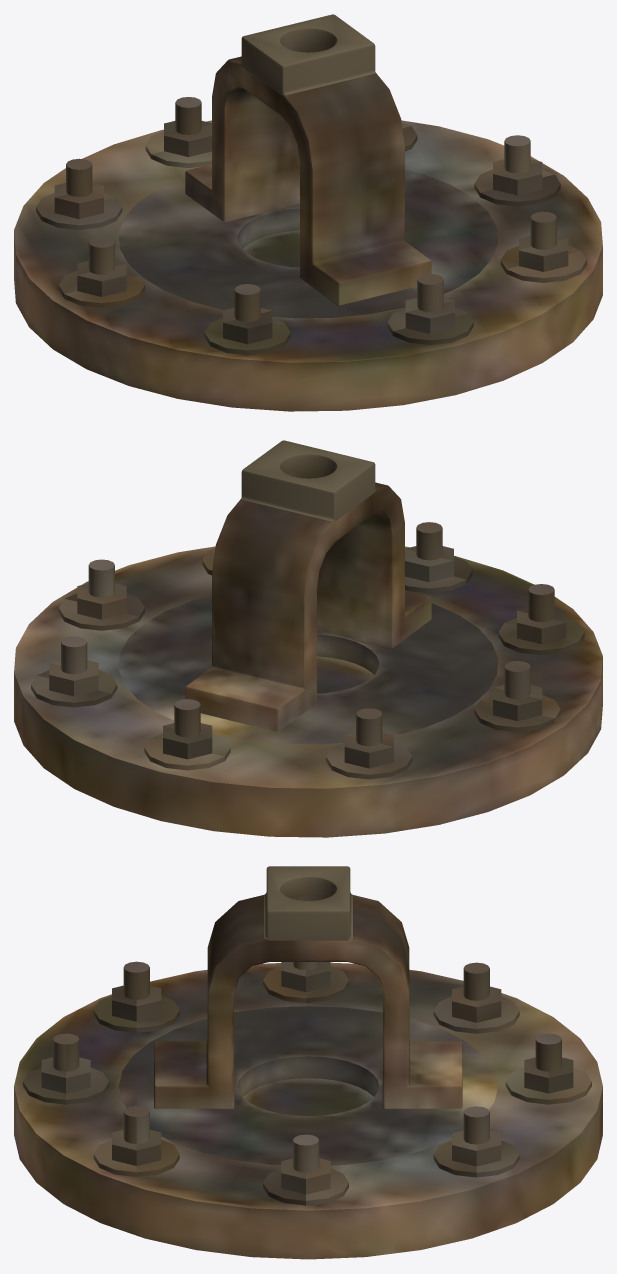
File: pipe-valve-body.glb
3 renders of one model, top to bottom at view 1: azimuth 30°, elevation 25°; view 2: azimuth 150°, elevation 25°; view 3: azimuth 270°, elevation 25°, orthographic.
Parts seen in each view (by area): view 1: pipe-valve-body; view 2: pipe-valve-body; view 3: pipe-valve-body.
Part boxes in pixels (box(x1,y1,x2,y2)): pipe-valve-body: box(14, 14, 602, 411); pipe-valve-body: box(14, 440, 602, 837); pipe-valve-body: box(14, 866, 602, 1259).
Bounding box in the file's own units: 0.2811 × 0.13 × 0.2811.
1 material, 1 textured.
